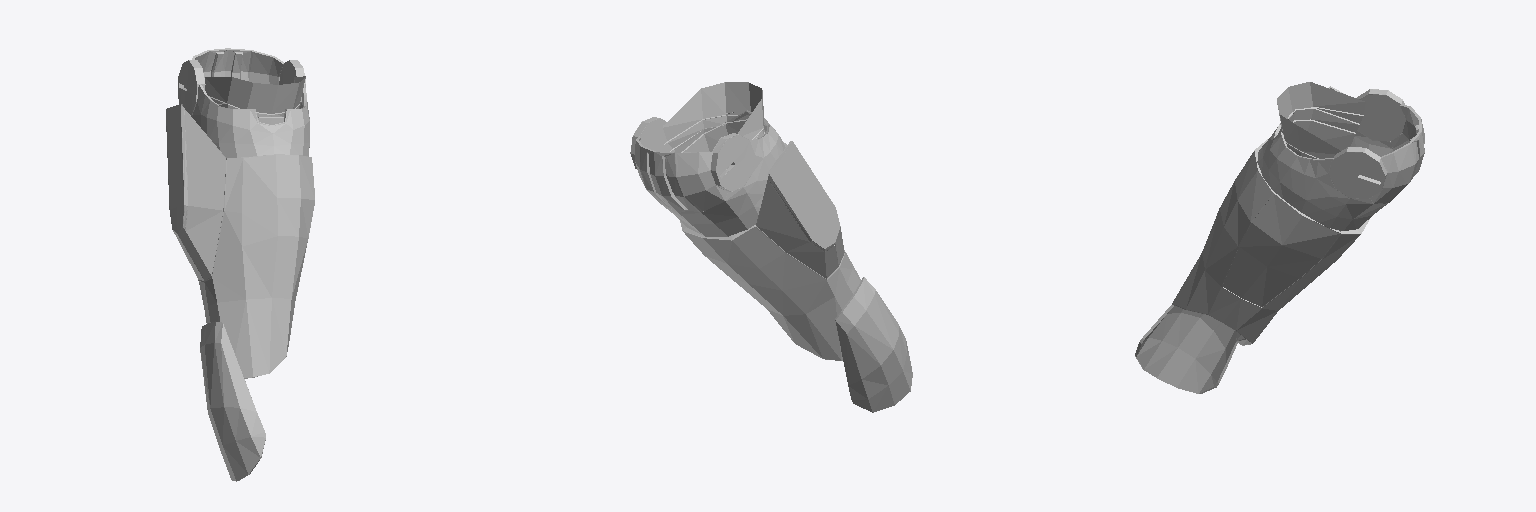
The model's file is irightd.obj.
The picture shows the model from 3 angles: view 1: azimuth 30°, elevation 25°; view 2: azimuth 150°, elevation 25°; view 3: azimuth 270°, elevation 25°; orthographic projection.
Visible parts, largest first — view 1: HD_Ironman:polySurface3973; view 2: HD_Ironman:polySurface3973; view 3: HD_Ironman:polySurface3973.
Part boxes in pixels (left/top/right/bottom): HD_Ironman:polySurface3973: left=166, top=48, right=314, bottom=481; HD_Ironman:polySurface3973: left=630, top=82, right=912, bottom=412; HD_Ironman:polySurface3973: left=1135, top=82, right=1424, bottom=393.
Size of the model in its own units: 2.18 by 4.13 by 3.2.